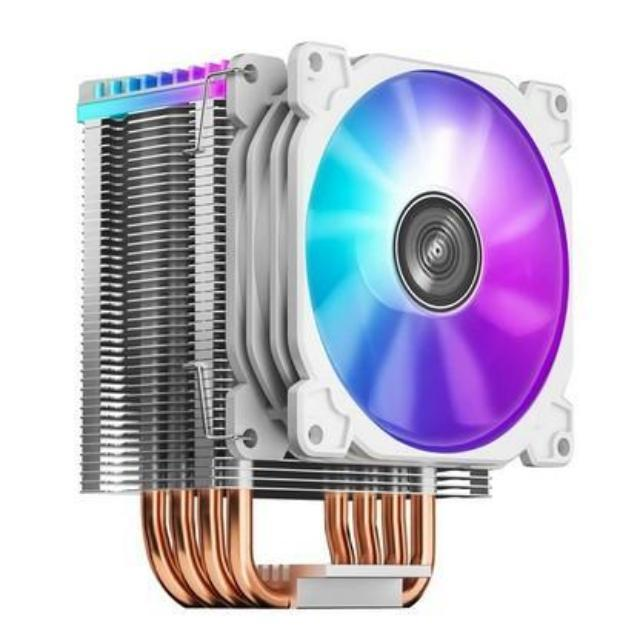CPU_Fan: (80, 41, 572, 606)
